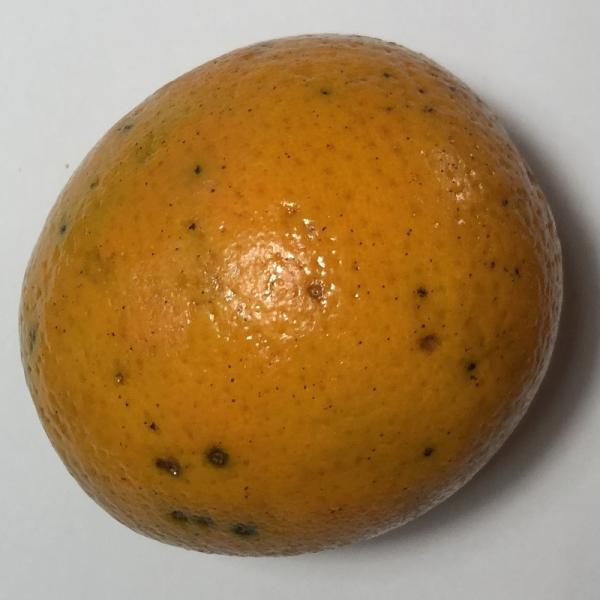Machas negras: (4, 14, 580, 572)
